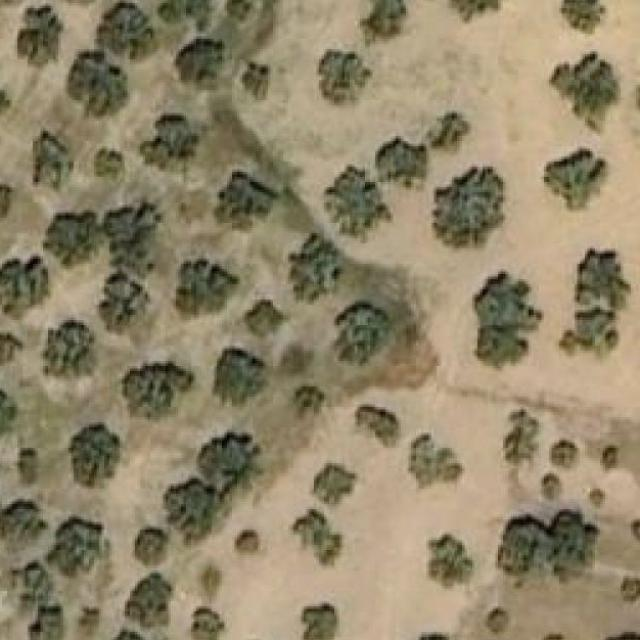Tree: (472, 269, 542, 371), (430, 166, 505, 252), (549, 52, 621, 134), (324, 165, 394, 241), (68, 44, 130, 115), (541, 146, 607, 211), (176, 251, 237, 316), (574, 248, 634, 313), (198, 427, 263, 487), (214, 172, 280, 231), (122, 361, 193, 415), (106, 200, 162, 267), (548, 511, 600, 583), (331, 303, 391, 364), (48, 517, 104, 582), (288, 233, 338, 303), (314, 49, 373, 108), (97, 0, 156, 59), (42, 318, 96, 382), (0, 252, 51, 317), (497, 513, 544, 582), (68, 425, 120, 487), (559, 310, 621, 361), (408, 432, 464, 488), (168, 478, 224, 534), (214, 348, 268, 404), (18, 6, 64, 71), (424, 532, 474, 591), (125, 570, 174, 630), (374, 136, 428, 190), (45, 210, 99, 264), (290, 510, 342, 566), (99, 277, 150, 333), (30, 129, 74, 193), (176, 37, 225, 93), (140, 131, 199, 172), (0, 499, 48, 545), (360, 0, 406, 47), (352, 405, 401, 449), (503, 410, 539, 464), (313, 461, 357, 505), (158, 0, 214, 34), (424, 112, 469, 152), (237, 300, 283, 338), (300, 599, 340, 640), (132, 528, 176, 564), (16, 564, 50, 604), (196, 558, 227, 599), (0, 386, 23, 440), (32, 603, 65, 640), (190, 606, 224, 640), (242, 61, 271, 100), (564, 0, 600, 31), (91, 149, 122, 183), (17, 438, 38, 488), (449, 0, 503, 18), (0, 69, 13, 139), (294, 387, 324, 417), (277, 349, 311, 374), (74, 606, 99, 640), (104, 629, 181, 640), (549, 440, 578, 468), (234, 530, 263, 558), (0, 333, 23, 366), (485, 608, 510, 637), (539, 471, 561, 502), (0, 187, 18, 217), (225, 0, 251, 20), (621, 578, 640, 604), (602, 445, 621, 463), (398, 634, 454, 640), (590, 489, 608, 507), (602, 632, 640, 640), (544, 634, 562, 640)
